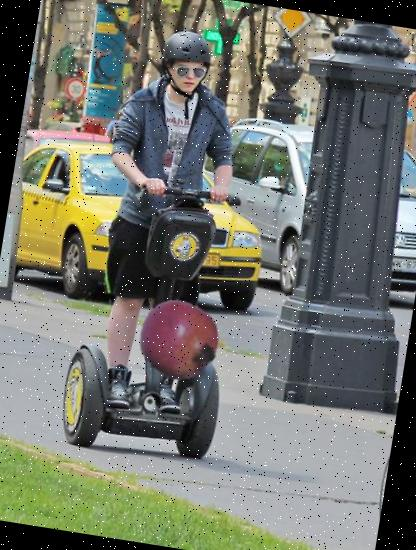Pomegranate: (132, 293, 226, 386)
